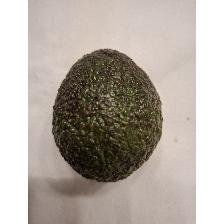Avocado: (51, 47, 166, 185)
